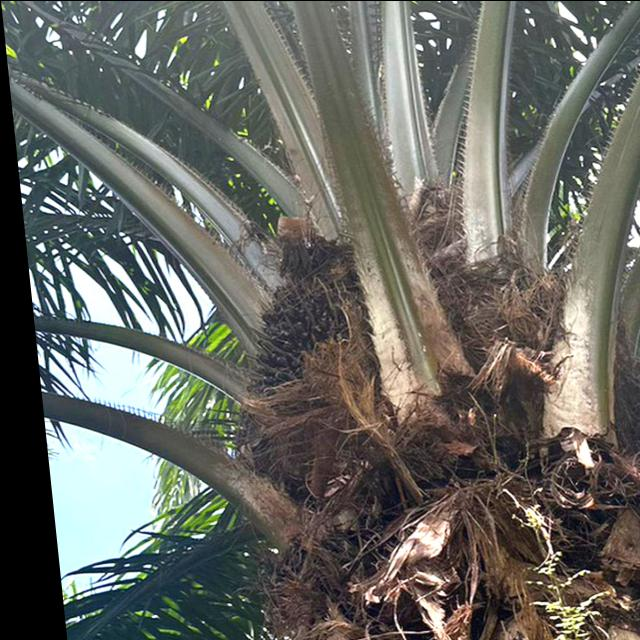almost: (227, 267, 377, 414)
